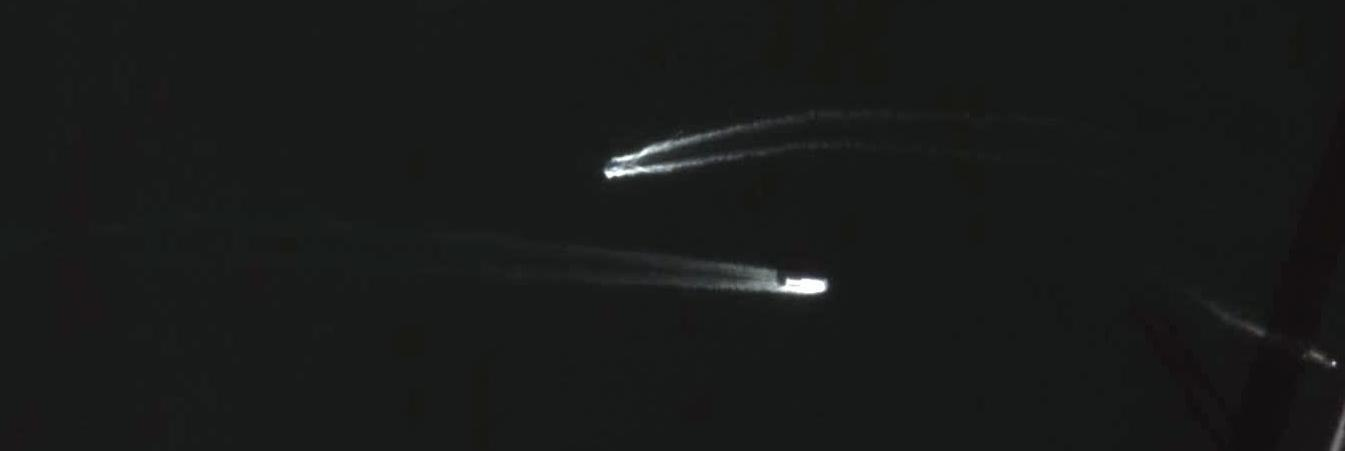person: (783, 276, 828, 294), (1308, 350, 1337, 368), (605, 163, 620, 169)
